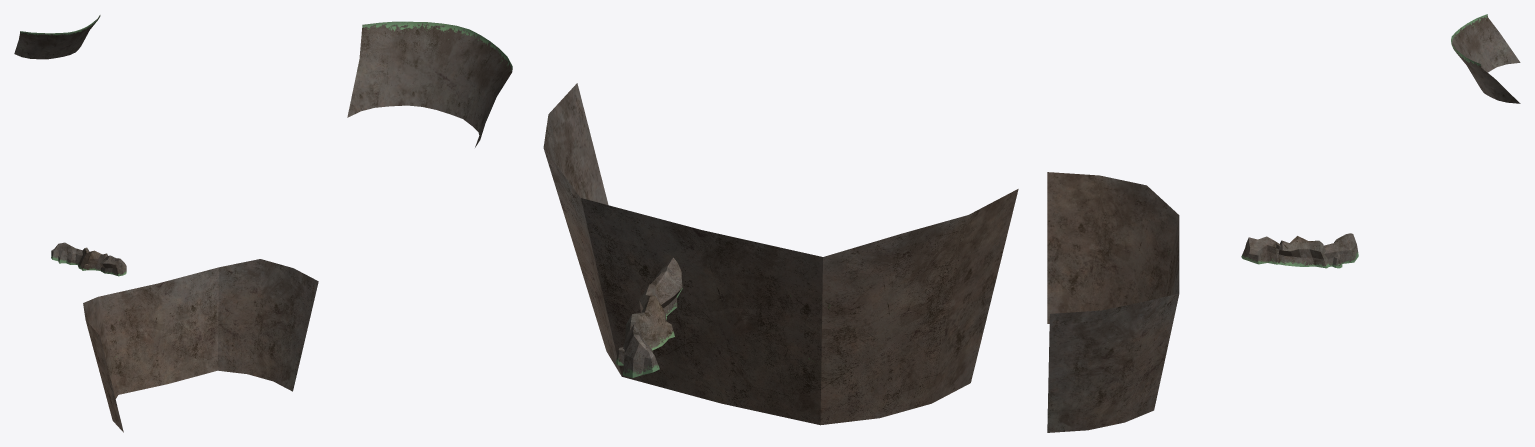
File: BgMD_island01_02 1.fbx
3 views of the same model, side by side, from view 1: azimuth 30°, elevation 25°; view 2: azimuth 150°, elevation 25°; view 3: azimuth 270°, elevation 25° (orthographic). The views are drawn at different scales.
Visible parts, largest first — view 1: island01_02_1, island01_02_5_2, island01_02_5_4, island01_02_5_3, island01_02_5_5; view 2: island01_02_1, island01_02_5_2, island01_02_5_3, island01_02_5_4, island01_02_5_5; view 3: island01_02_1, island01_02_5_2, island01_02_5_3, island01_02_5_5, island01_02_5_4.
Boxes of the visible parts, left/top/right/bottom form: island01_02_1: left=83, top=259, right=318, bottom=432; island01_02_5_2: left=14, top=15, right=100, bottom=59; island01_02_5_4: left=51, top=242, right=82, bottom=264; island01_02_5_3: left=78, top=247, right=108, bottom=270; island01_02_5_5: left=99, top=255, right=126, bottom=276; island01_02_1: left=543, top=83, right=1018, bottom=425; island01_02_5_2: left=347, top=21, right=512, bottom=147; island01_02_5_3: left=623, top=284, right=674, bottom=350; island01_02_5_4: left=616, top=324, right=659, bottom=377; island01_02_5_5: left=651, top=257, right=682, bottom=315; island01_02_1: left=1047, top=172, right=1179, bottom=432; island01_02_5_2: left=1451, top=14, right=1520, bottom=103; island01_02_5_3: left=1278, top=236, right=1329, bottom=268; island01_02_5_5: left=1241, top=236, right=1284, bottom=264; island01_02_5_4: left=1324, top=233, right=1358, bottom=268.
Bounding box in the file's own units: 14247 × 16489 × 20095.
